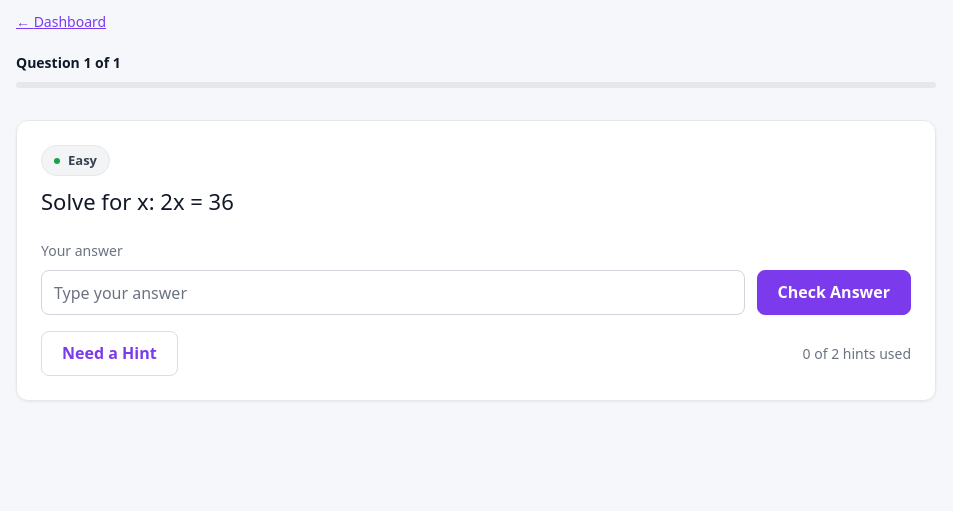
Scenario: SessionQuestionPage - reveal solution regression guards (correct/ladder unchanged) › leaves normal correct-answer advancement unchanged
The width and height of the screenshot is (953, 511).
Expected: the text "Solve for x: 2x = 36" is shown, [41,186,234,216]
In the field with placeholder "Type your answer": (393, 293) [41,270,745,315], type "18"
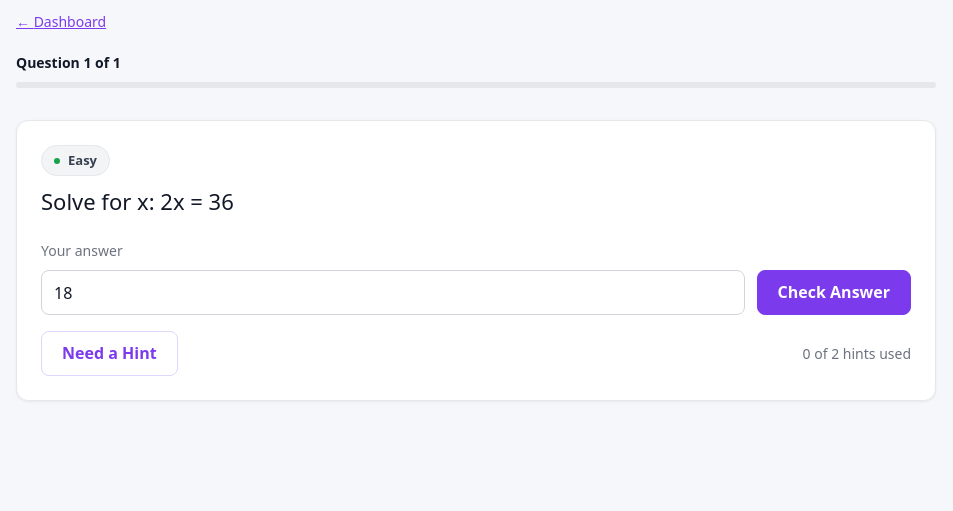
Click the button "Check Answer": (834, 293) [757,270,911,315]
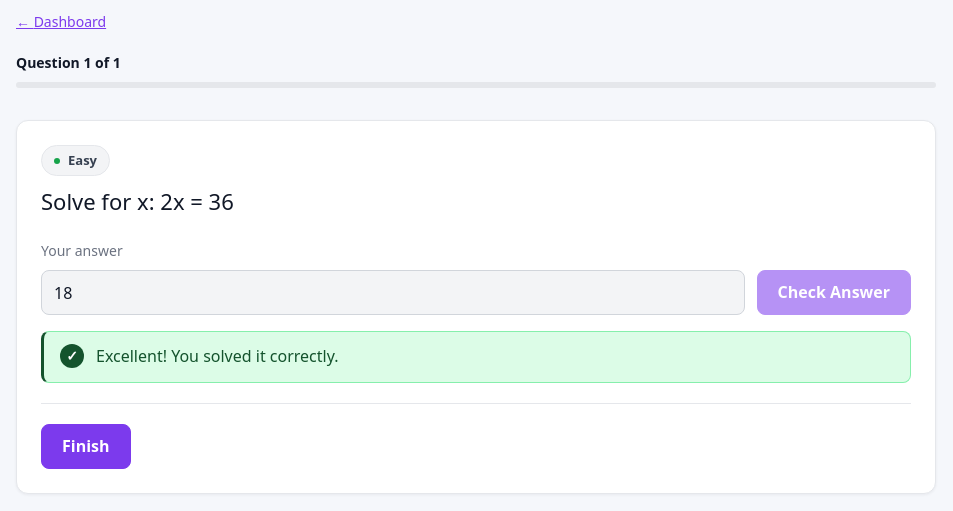
Expected: the text "Excellent! You solved it correctly." is shown, [96,344,338,370]
Expected: the button "Finish" is shown, [41,424,130,469]
